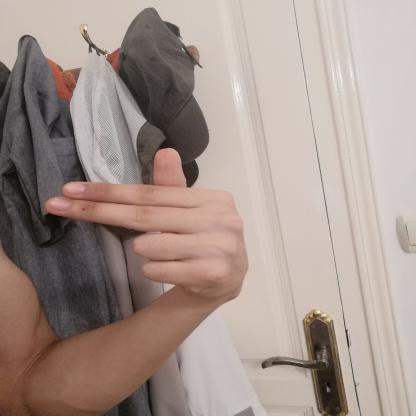GHAYN: (34, 138, 260, 311)
